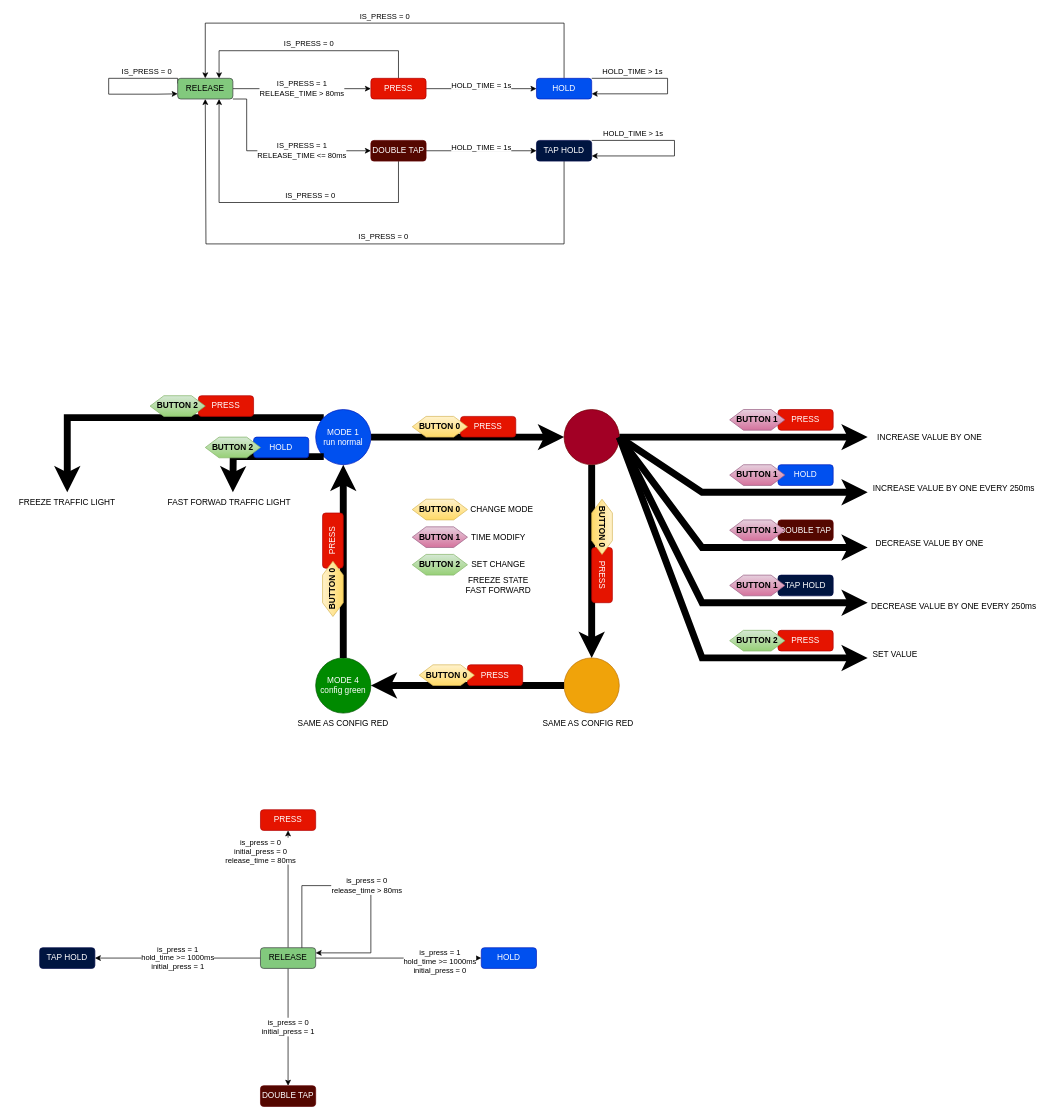
The diagram is 1052 pixels wide and 1118 high, and some of its shapes have lost their labels. The centre of each missing label's shape, as x and y in pixels:
"MODE 2 config red" goes at (x=591, y=437).
"MODE 3 config amber" goes at (x=591, y=685).
